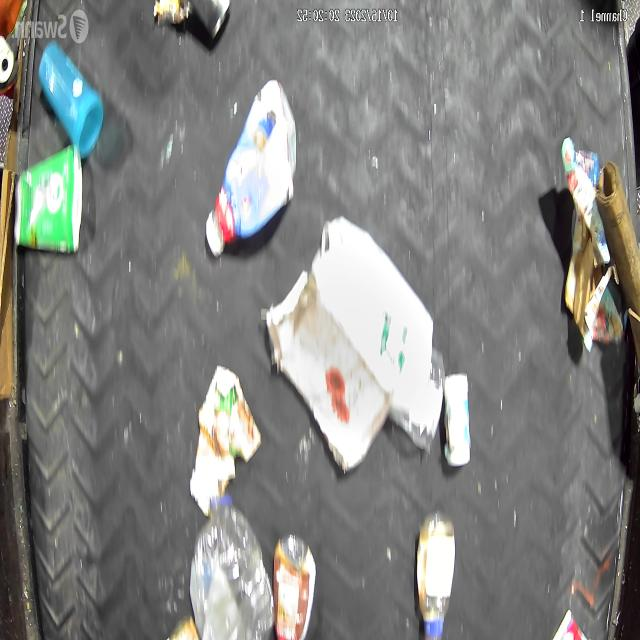can: (190, 0, 232, 40)
milk_jug: (311, 214, 434, 408)
plastic_bottle: (194, 493, 274, 640)
